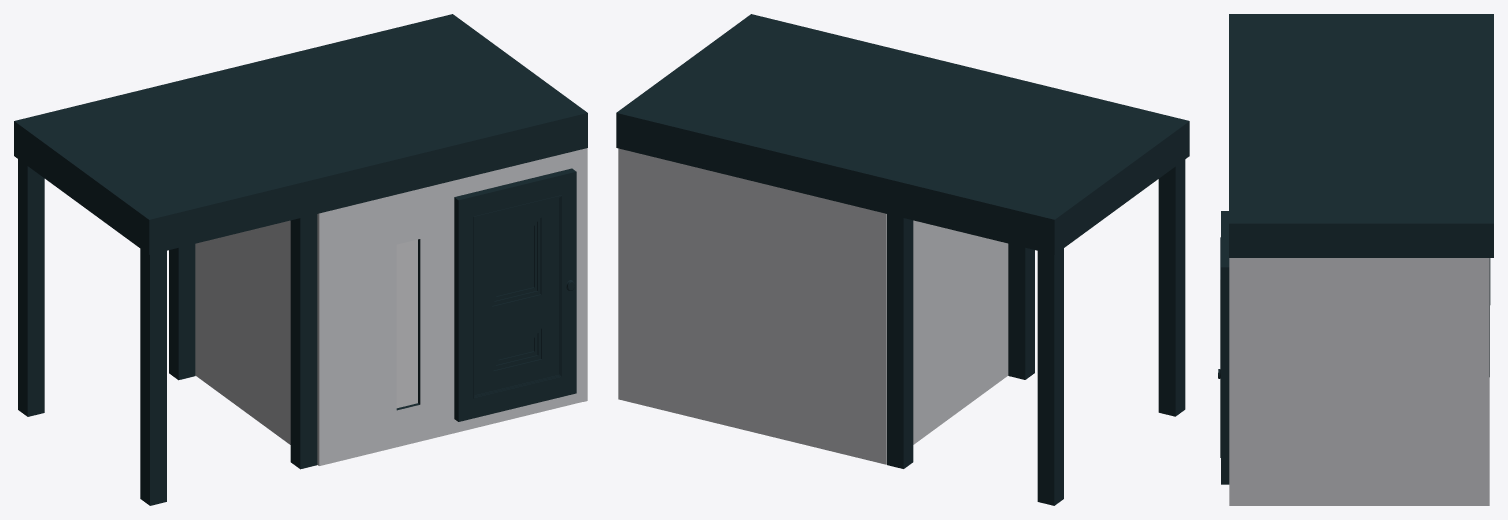
Rendered from technicalHouse.glb.
3 renders of one model, left to right at view 1: azimuth 30°, elevation 25°; view 2: azimuth 150°, elevation 25°; view 3: azimuth 270°, elevation 25°, orthographic. The views are drawn at different scales.
Parts seen in each view (by area): view 1: Box001, Box006, Box004.001, Box004, Box003, Box002, Box005; view 2: Box006, Box001, Box003, Box002, Box005, Box004; view 3: Box006, Box001, Box004.001.
Part boxes in pixels (x1,y1,x2,y2): Box001: (14,14,587,254); Box006: (195,148,587,465); Box004.001: (454,168,576,421); Box004: (290,214,317,469); Box003: (140,249,166,505); Box002: (18,159,44,416); Box005: (169,244,195,380); Box006: (618,148,1008,464); Box001: (616,14,1189,254); Box003: (1158,159,1185,416); Box002: (1037,248,1063,505); Box005: (887,214,913,468); Box004: (1008,243,1034,379); Box006: (1229,258,1489,505); Box001: (1229,14,1493,257); Box004.001: (1220,211,1229,484).
Size of the model in its own units: 3.79 by 2.38 by 2.1.
